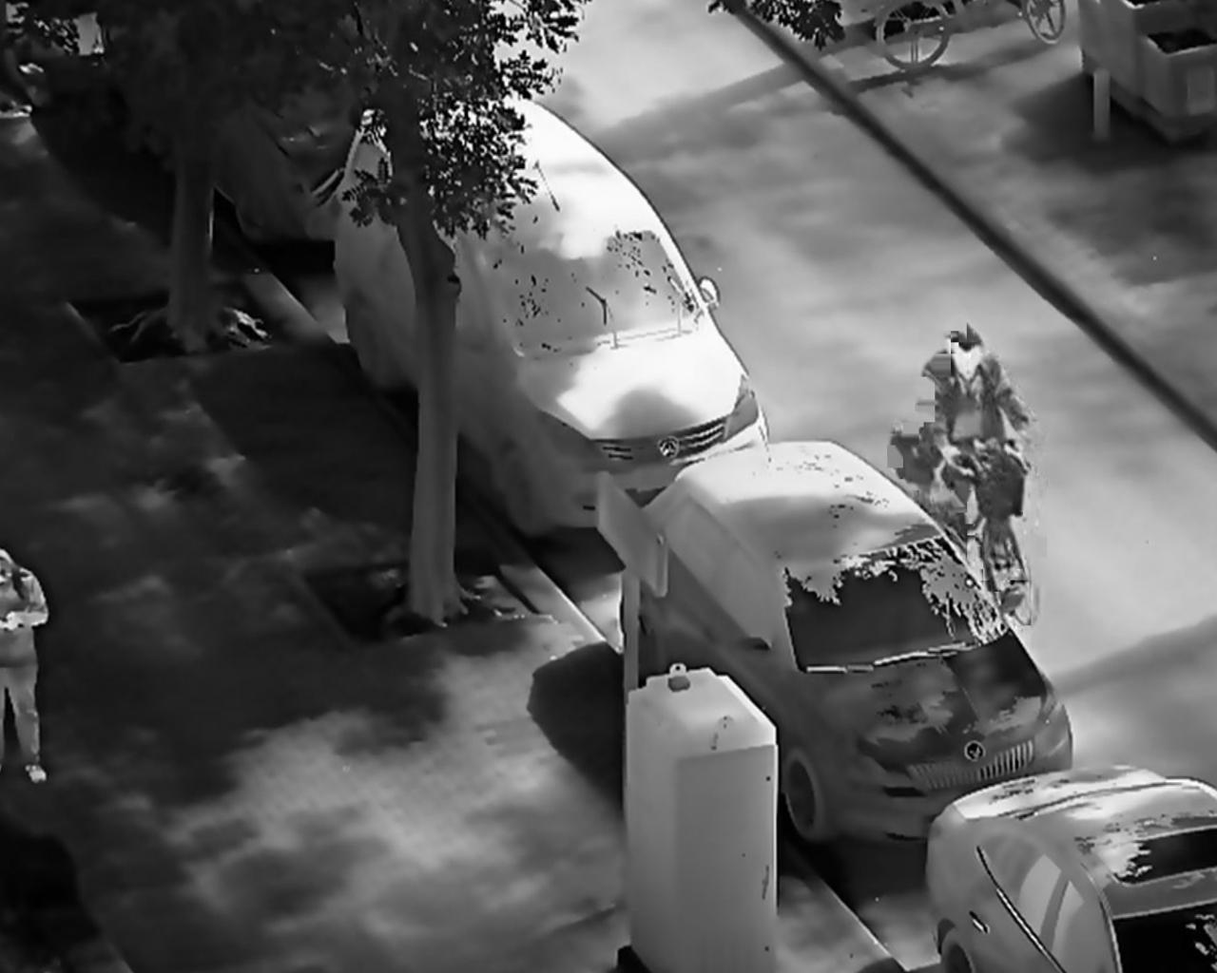person: (915, 318, 1040, 550)
